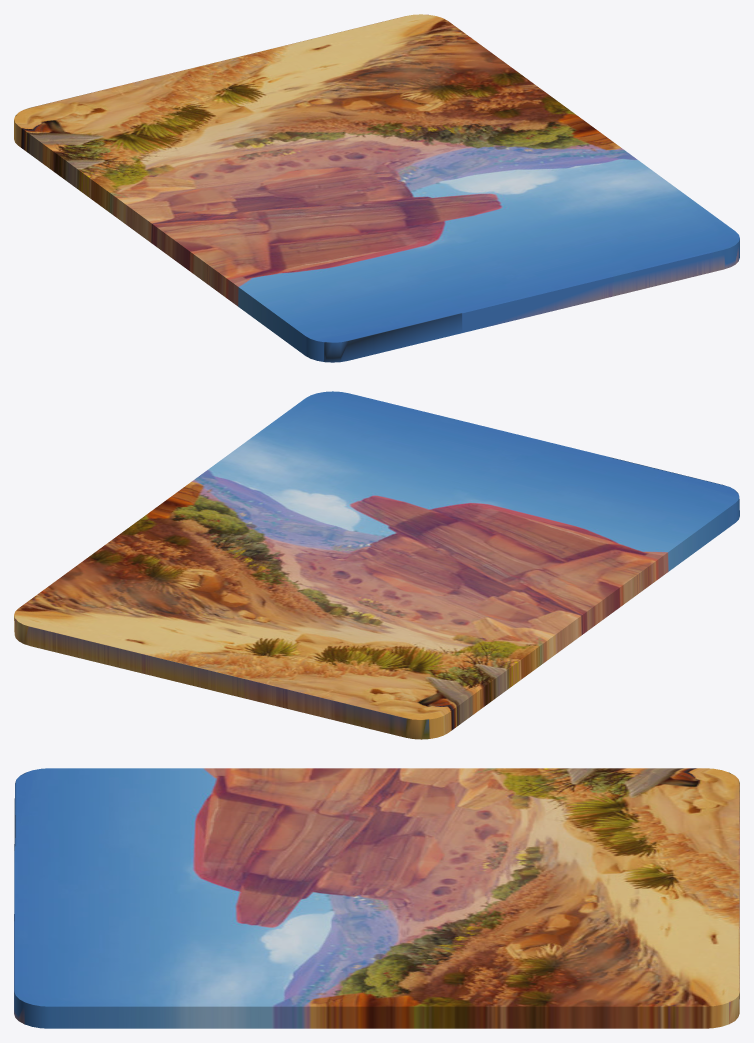
File: Jigsaw Final 4x3 Grid Flat.fbx
3 views of the same model, one above another, from view 1: azimuth 30°, elevation 25°; view 2: azimuth 150°, elevation 25°; view 3: azimuth 270°, elevation 25° (orthographic). The views are drawn at different scales.
Parts seen in each view (by area): view 1: Tile_03, Tile_06, Tile_01, Tile_02, Tile_08, Tile_07, Tile_12, Tile_05, Tile_09, Tile_10, Tile_11, Tile_04; view 2: Tile_12, Tile_06, Tile_11, Tile_08, Tile_10, Tile_09, Tile_07, Tile_01, Tile_03, Tile_05, Tile_02, Tile_04; view 3: Tile_07, Tile_01, Tile_10, Tile_06, Tile_08, Tile_04, Tile_05, Tile_11, Tile_02, Tile_12, Tile_03, Tile_09.
Boxes of the visible parts, <box> form: Tile_03: <box>241,254,465,362</box>; Tile_06: <box>162,196,383,308</box>; Tile_01: <box>529,184,739,297</box>; Tile_02: <box>385,219,607,332</box>; Tile_08: <box>226,101,448,195</box>; Tile_07: <box>370,66,591,160</box>; Tile_12: <box>14,79,225,192</box>; Tile_05: <box>306,161,527,253</box>; Tile_09: <box>82,138,305,250</box>; Tile_10: <box>290,14,511,102</box>; Tile_11: <box>146,44,369,137</box>; Tile_04: <box>449,126,670,219</box>; Tile_12: <box>289,631,512,739</box>; Tile_06: <box>448,515,671,627</box>; Tile_11: <box>145,596,367,709</box>; Tile_08: <box>225,538,447,631</box>; Tile_10: <box>14,561,224,674</box>; Tile_09: <box>368,573,592,685</box>; Tile_07: <box>83,503,304,596</box>; Tile_01: <box>241,391,463,479</box>; Tile_03: <box>527,456,739,568</box>; Tile_05: <box>305,480,526,573</box>; Tile_02: <box>384,421,607,514</box>; Tile_04: <box>162,445,383,537</box>; Tile_07: <box>330,922,608,1028</box>; Tile_01: <box>14,912,243,1028</box>; Tile_10: <box>553,909,739,1028</box>; Tile_06: <box>149,768,426,864</box>; Tile_08: <box>329,829,607,930</box>; Tile_04: <box>187,925,385,1028</box>; Tile_05: <box>187,844,386,944</box>; Tile_11: <box>552,830,739,930</box>; Tile_02: <box>14,844,218,940</box>; Tile_12: <box>510,768,739,850</box>; Tile_03: <box>14,768,203,864</box>; Tile_09: <box>368,768,566,850</box>.
Size of the model in its own units: 18.6 by 0.8077 by 23.9.
Materials: 1 (1 with a texture image).
